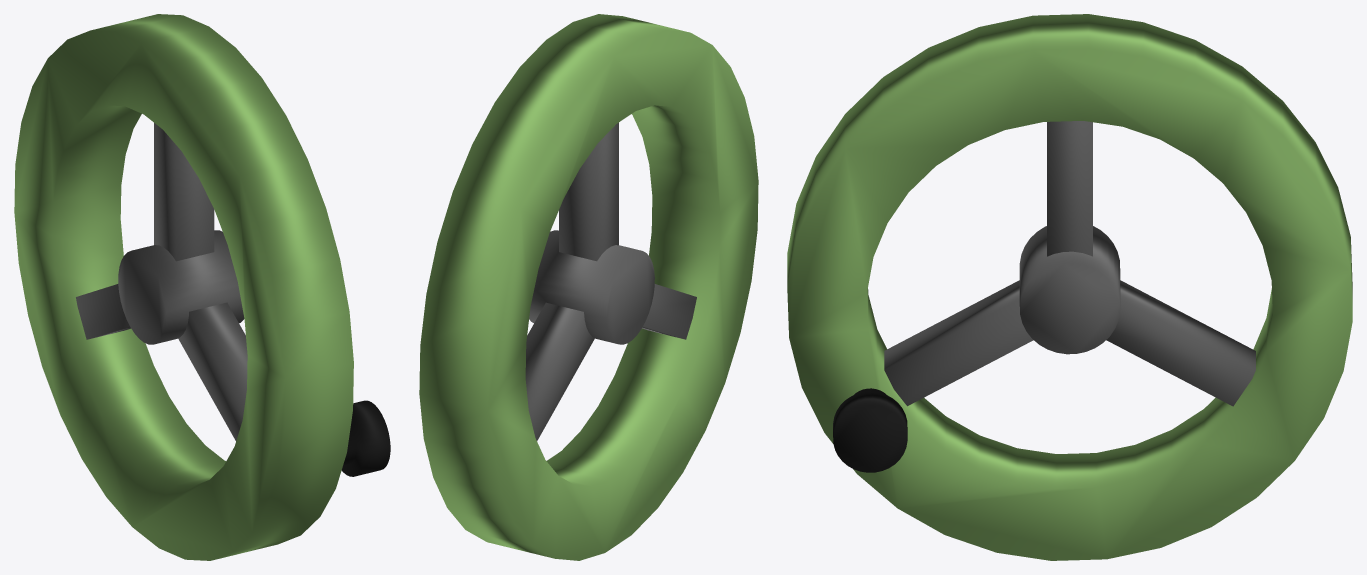
File: tokar_scene_model_2.gltf
3 views of the same model, side by side, from view 1: azimuth 30°, elevation 25°; view 2: azimuth 150°, elevation 25°; view 3: azimuth 270°, elevation 25° (orthographic). The views are drawn at different scales.
Visible parts, largest first — view 1: Куб.002; view 2: Куб.002; view 3: Куб.002.
Part boxes in pixels (x1,y1,x2,y2): Куб.002: (14,14,390,560); Куб.002: (419,14,758,560); Куб.002: (787,14,1352,560).
Bounding box in the file's own units: 1.7 × 5.94 × 5.94.
